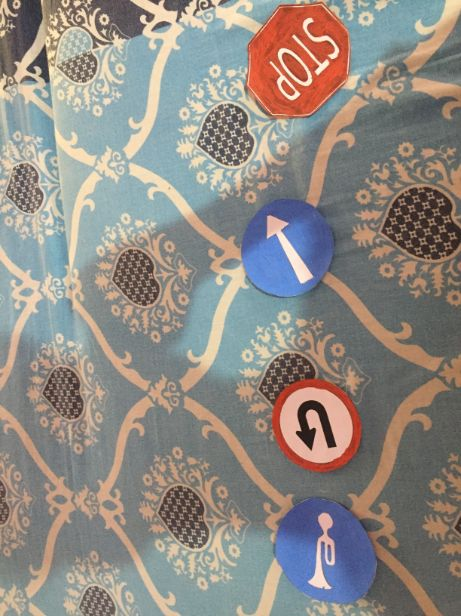blow-horn: (276, 489, 396, 609)
keep-left: (240, 198, 340, 298)
stop: (244, 1, 364, 119)
u-turn: (273, 376, 372, 475)
